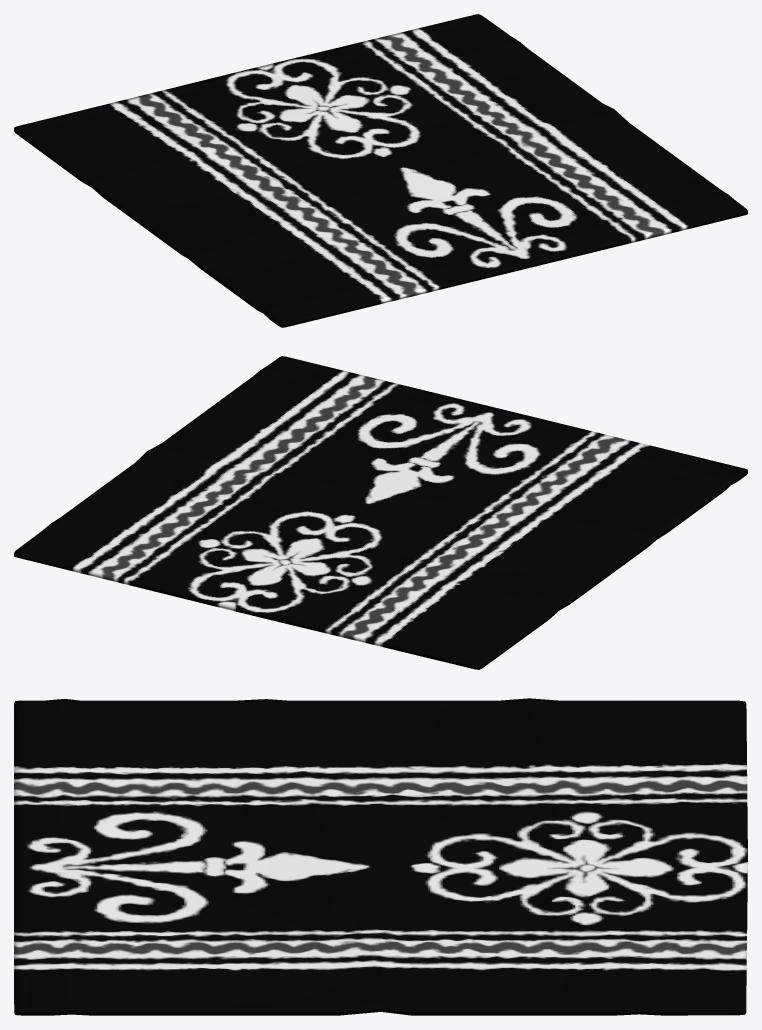
Rendered from SM_Carpet_C.fbx.
3 renders of one model, top to bottom at view 1: azimuth 30°, elevation 25°; view 2: azimuth 150°, elevation 25°; view 3: azimuth 270°, elevation 25°, orthographic. The views are drawn at different scales.
Parts seen in each view (by area): view 1: SM_Carpet_C_LOD0; view 2: SM_Carpet_C_LOD0; view 3: SM_Carpet_C_LOD0.
Part boxes in pixels (box(x1,y1,x2,y2)): SM_Carpet_C_LOD0: box(14, 14, 747, 327); SM_Carpet_C_LOD0: box(14, 356, 747, 669); SM_Carpet_C_LOD0: box(14, 698, 747, 1015).
Bounding box in the file's own units: 250 × 250 × 3.27.
